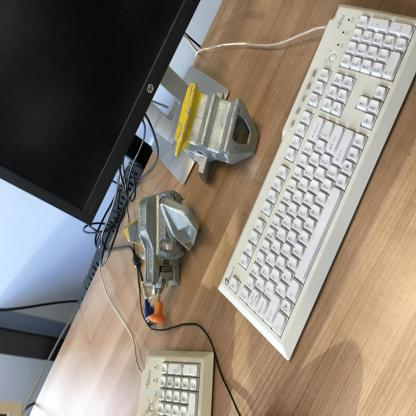Twistlock: (121, 185, 203, 329), (170, 79, 266, 184)
